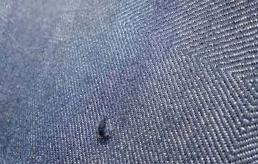knot: (96, 117, 117, 145)
